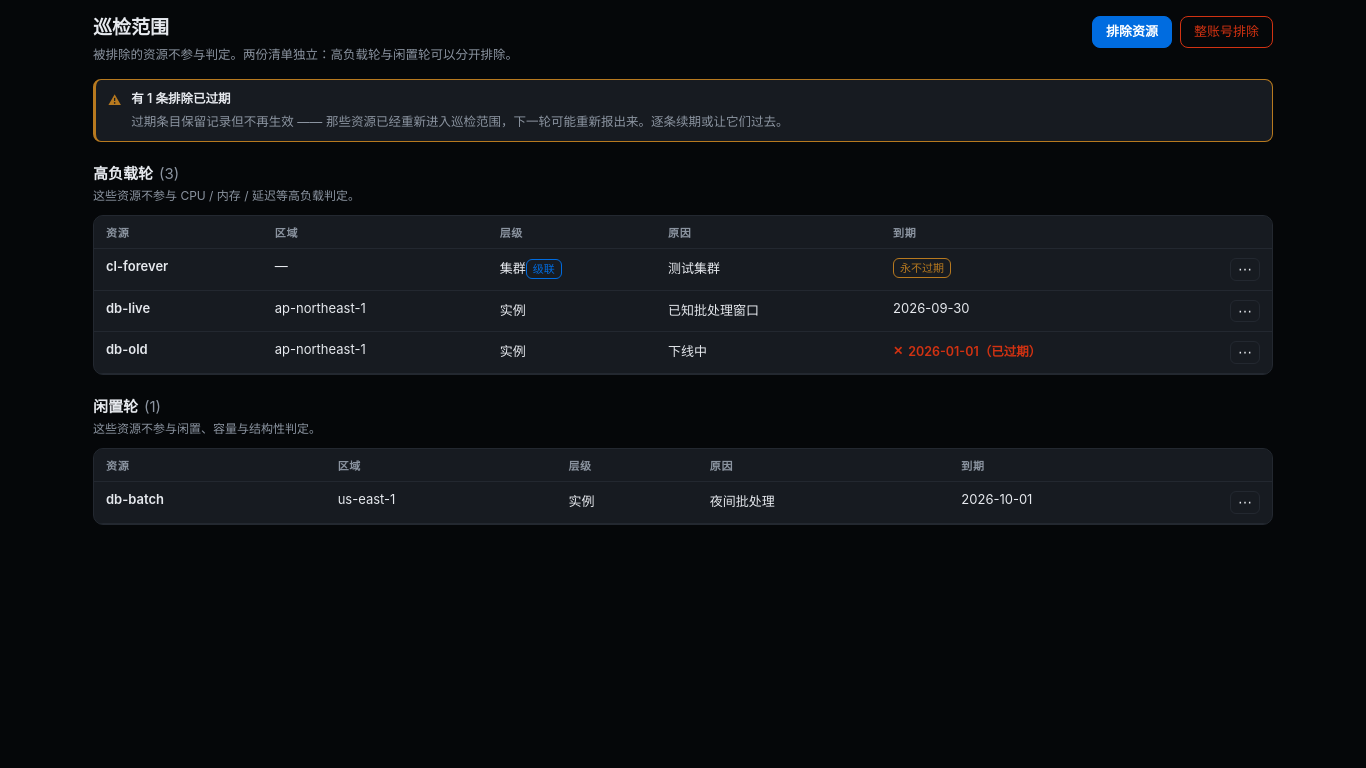
Test: account resolution on the scope page › ★★★ 弹层里换账号会清掉已勾选项
Expected: the text "db-live" is shown, 94,290 -> 263,332
Click the button "排除资源".
click(1132, 32)  # box 1092,16 -> 1172,48
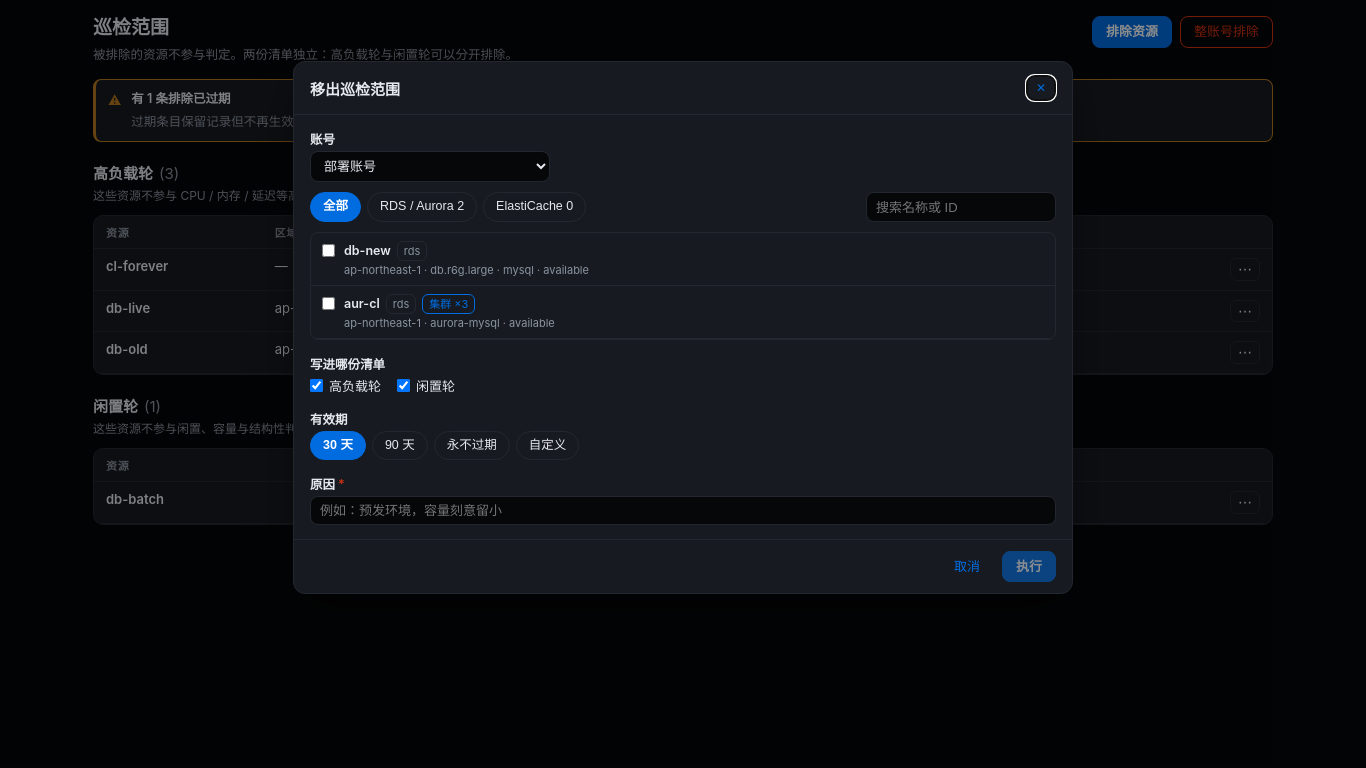
Expected: the button "执行" is shown, 1002,551 -> 1056,582
Expected: the text "db-new" is shown, 344,243 -> 391,258
Note: 勾一台 → 按钮变成「执行（1）」
Click the checkbox labelled "db-new rds ap-northeast-1 · db.r6g.large · mysql · available".
click(328, 250)  # box 322,244 -> 335,257
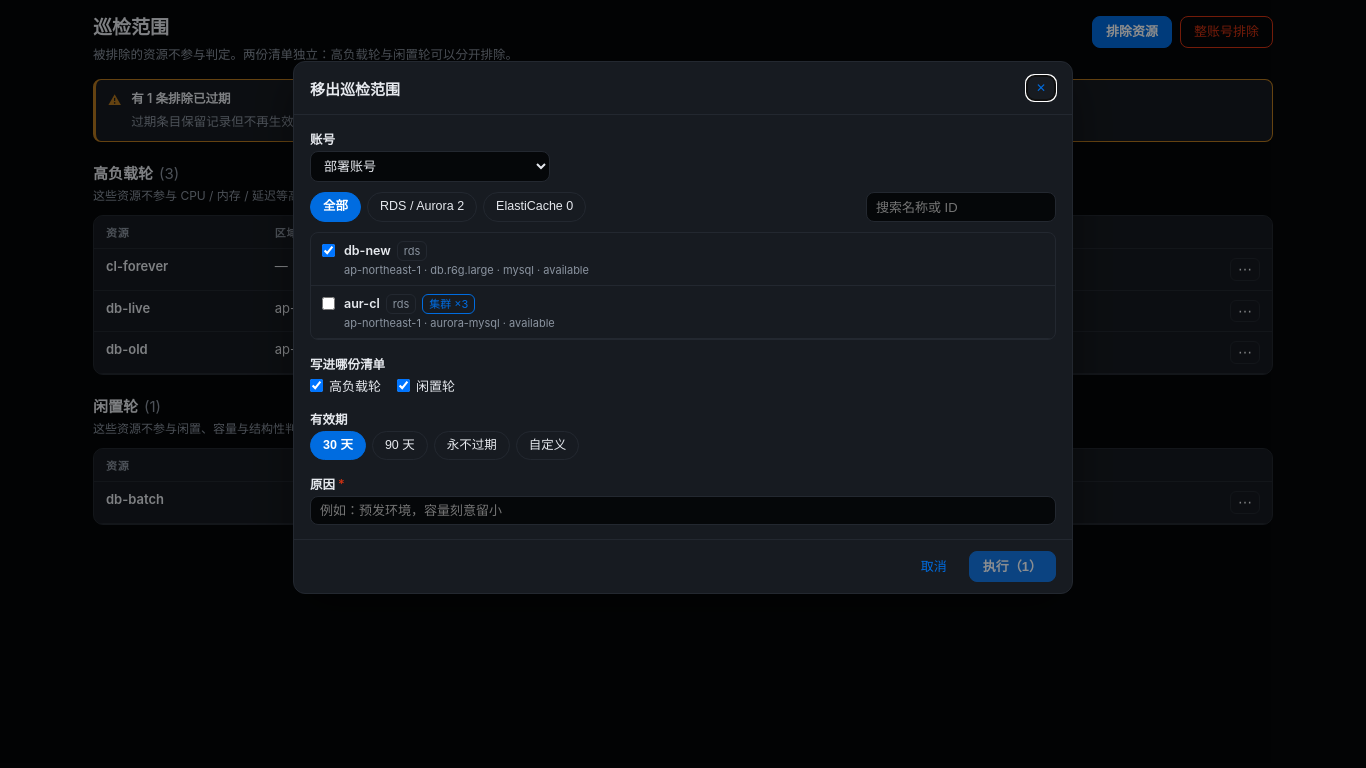
Expected: the button "执行（1）" is shown, 969,551 -> 1056,582
Note: 换账号 → 计数必须清零（按钮回到无计数态）
Select "prod-a · 444455556666" in the dropdown named "账号" at (430, 167), box 310,151 -> 550,182
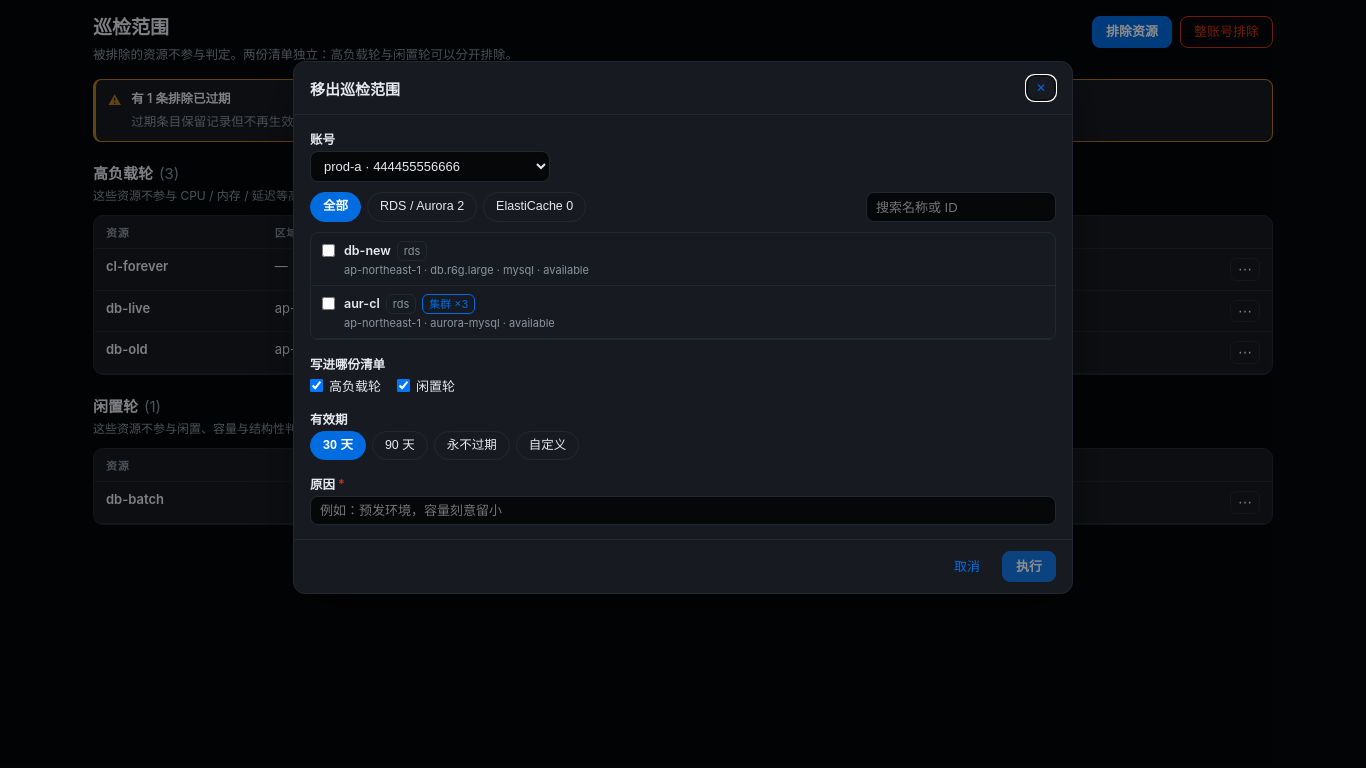
Expected: the button "执行" is shown, 1002,551 -> 1056,582
